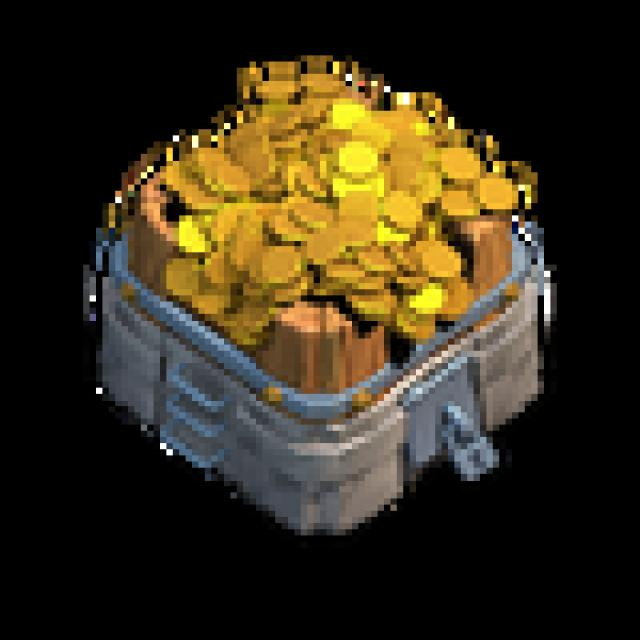gold_storage: (55, 44, 599, 573)
